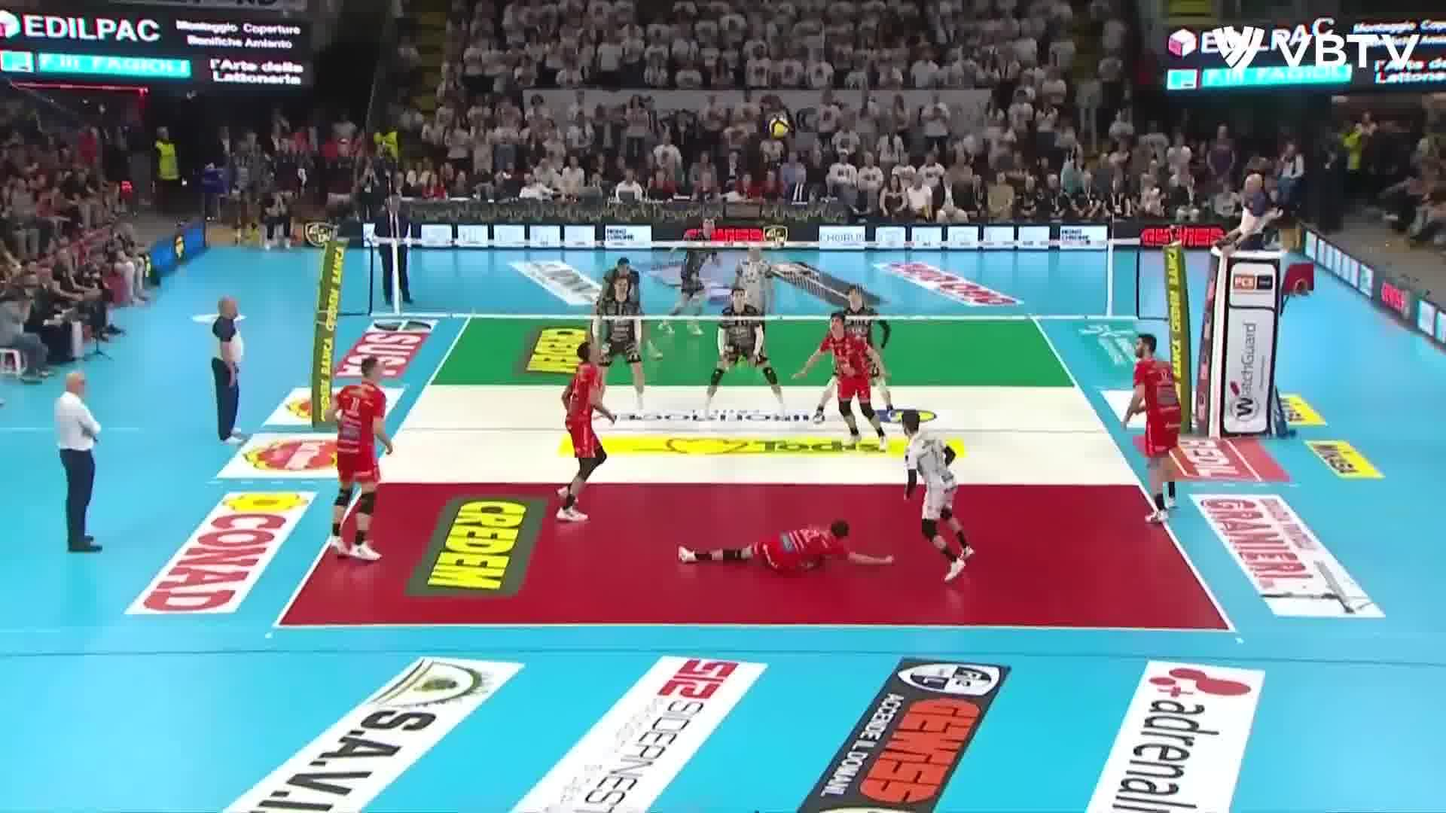balls: (769, 116, 790, 138)
